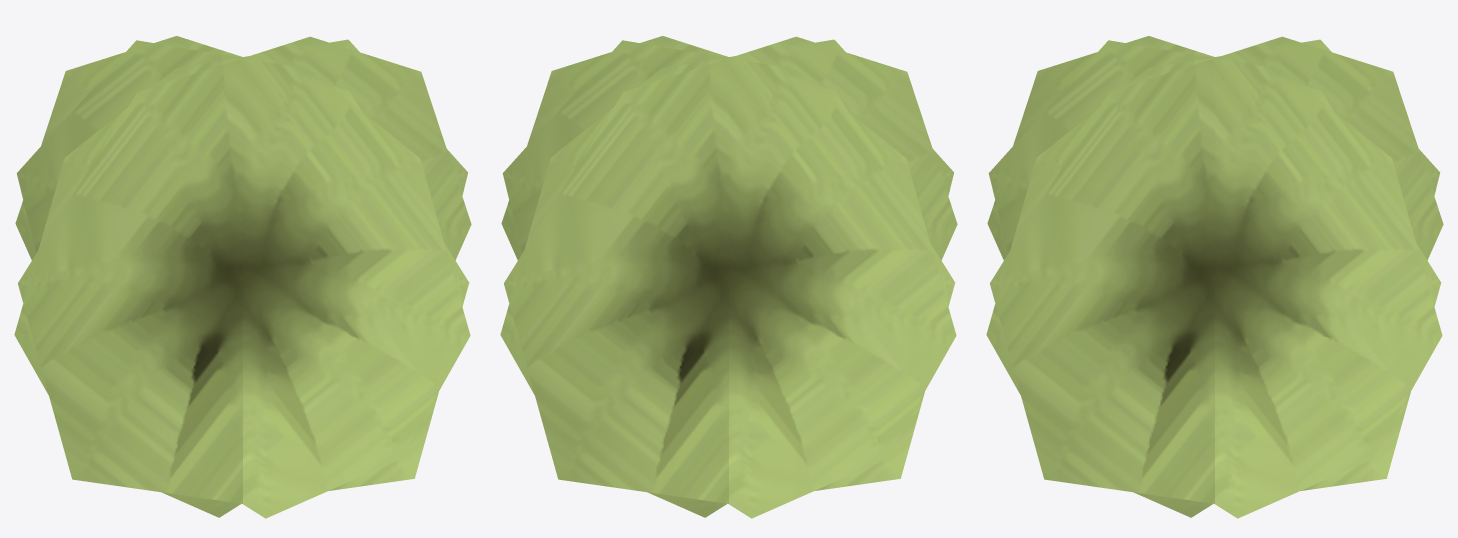
The model's file is painted-weed-023.glb.
3 renders of one model, left to right at view 1: azimuth 30°, elevation 25°; view 2: azimuth 150°, elevation 25°; view 3: azimuth 270°, elevation 25°, orthographic.
Size of the model in its own units: 10 by 9.64 by 8.68.
1 material, 1 textured.
